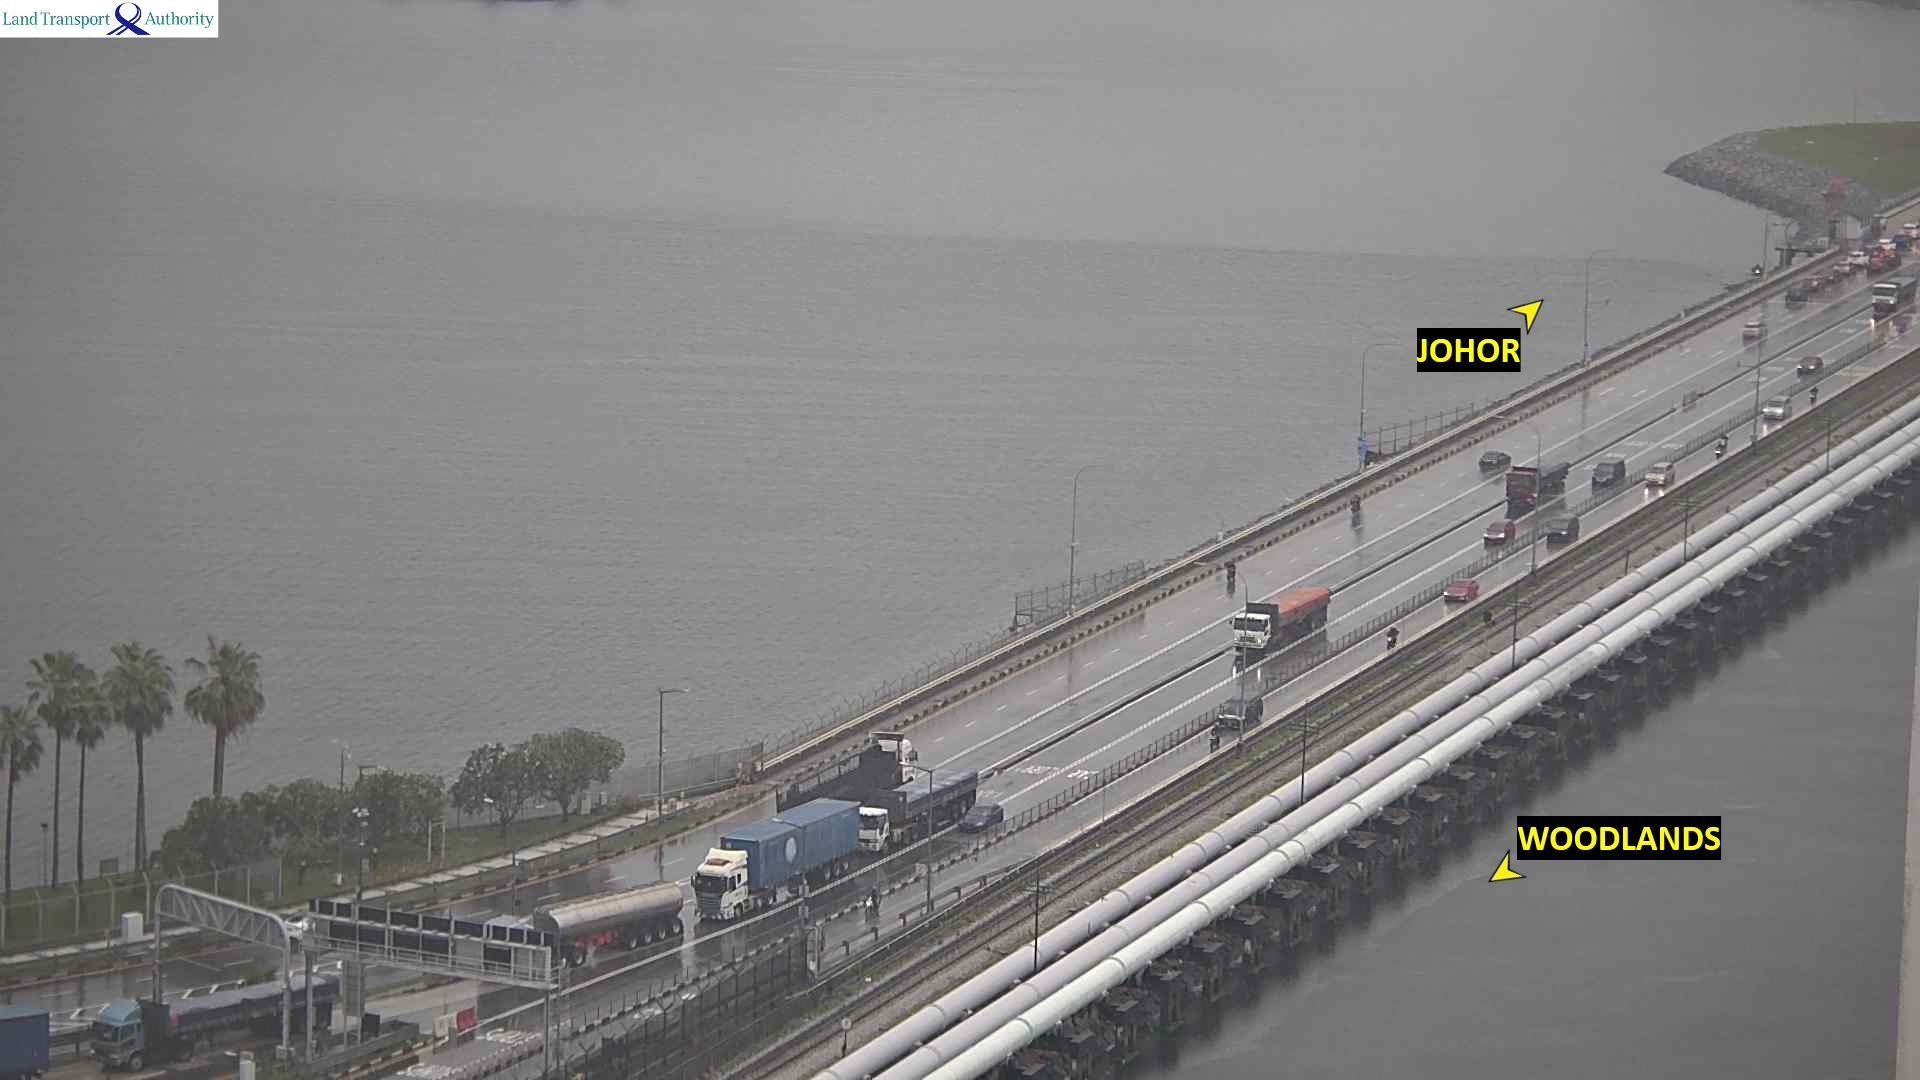vehicle-causeway-johor: (1480, 450, 1510, 471), (1743, 322, 1766, 339), (1815, 270, 1841, 285), (1787, 286, 1805, 305), (1846, 253, 1870, 266), (1225, 559, 1238, 582), (1350, 496, 1361, 513)
vehicle-causeway-singapore: (88, 973, 334, 1072), (695, 802, 858, 923), (488, 880, 683, 967), (860, 767, 978, 855), (1234, 585, 1329, 647), (0, 1005, 51, 1080), (1509, 459, 1565, 501), (1220, 690, 1265, 731), (1874, 277, 1917, 311), (961, 803, 1001, 831), (1547, 512, 1581, 542), (1444, 578, 1480, 603), (1482, 520, 1514, 546), (1593, 458, 1625, 484), (1762, 394, 1792, 421), (1647, 462, 1675, 488), (1797, 356, 1824, 375), (1714, 433, 1729, 459), (1387, 625, 1400, 646), (1809, 385, 1818, 404)
